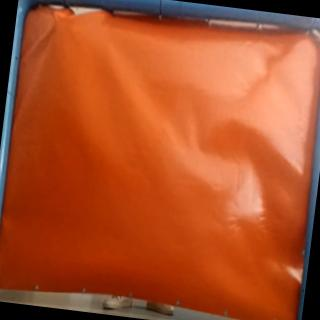Hit-hRxx: (44, 10, 65, 26)
